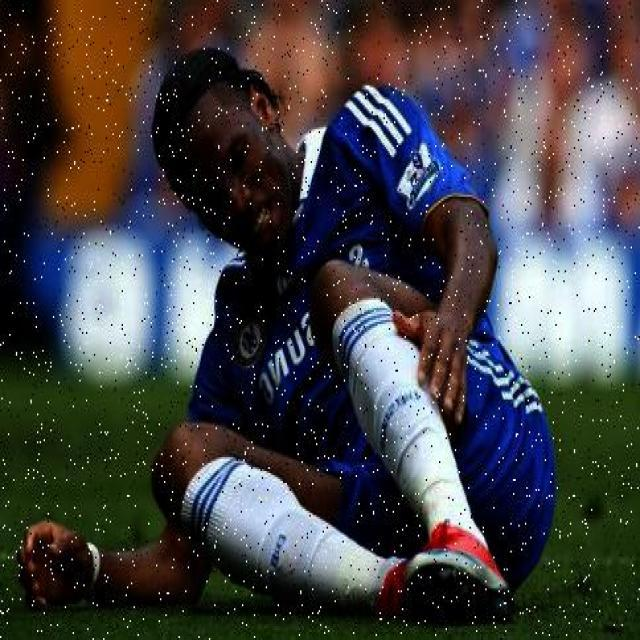fall: (46, 46, 544, 602)
